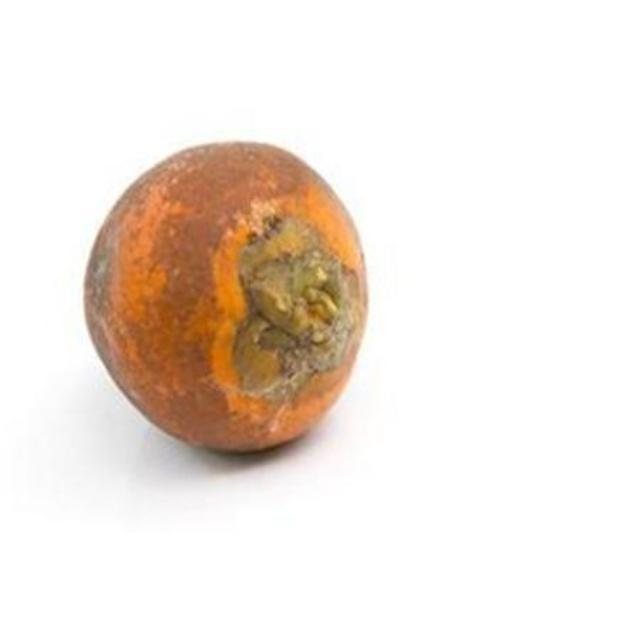good: (80, 141, 371, 457)
